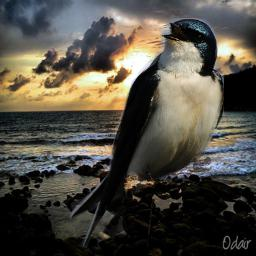Swallow: (70, 18, 224, 248)
